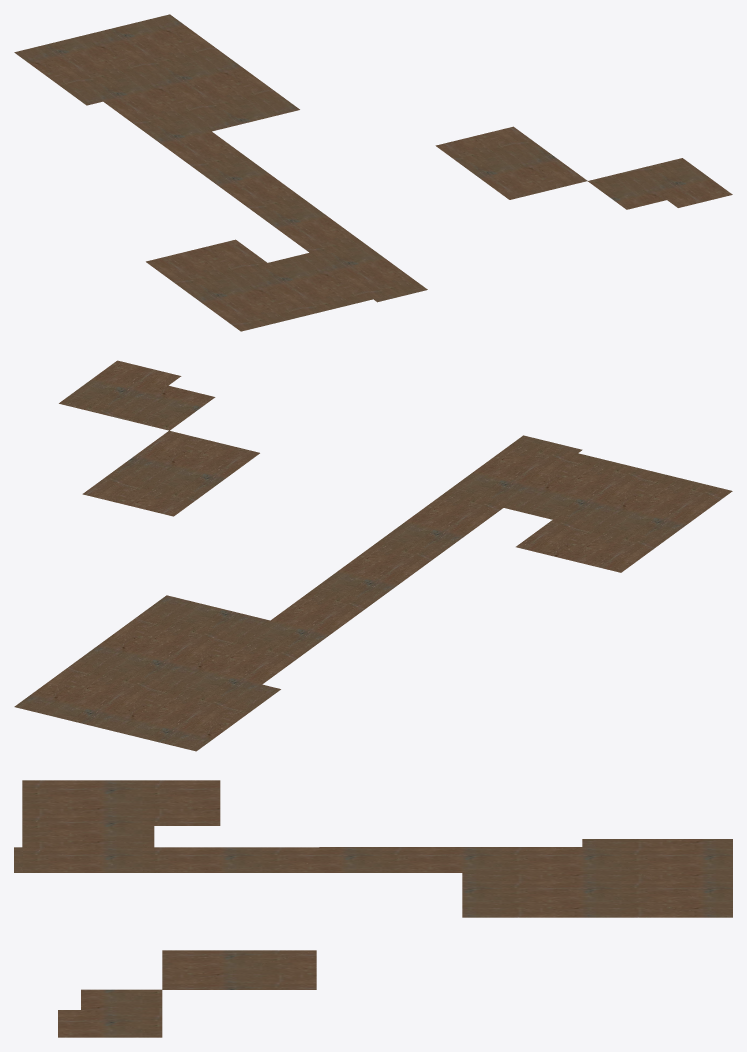
The model's file is ceiling_1.FBX.
The picture shows the model from 3 angles, top to bottom: view 1: azimuth 30°, elevation 25°; view 2: azimuth 150°, elevation 25°; view 3: azimuth 270°, elevation 25°; orthographic projection. The views are drawn at different scales.
Parts seen in each view (by area): view 1: ceiling_1; view 2: ceiling_1; view 3: ceiling_1.
Part boxes in pixels (left/top/right/bottom): ceiling_1: left=14, top=14, right=732, bottom=331; ceiling_1: left=14, top=360, right=732, bottom=751; ceiling_1: left=14, top=780, right=732, bottom=1037.
Size of the model in its own units: 2003 by 3.05e-05 by 2363.
